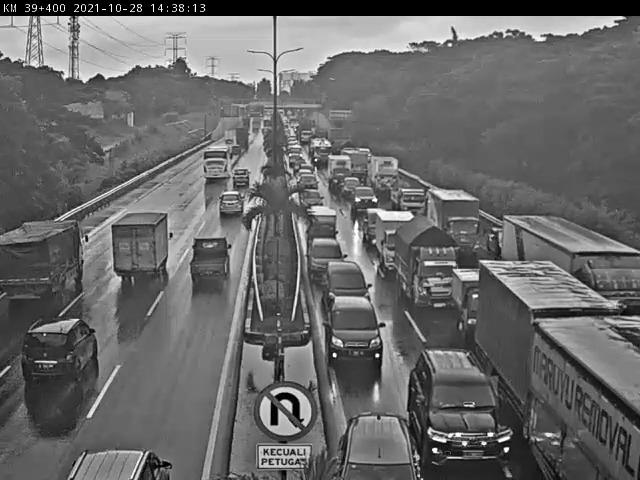big bus: (206, 147, 229, 177)
big truck: (480, 260, 634, 418), (529, 321, 640, 480), (501, 216, 640, 318), (0, 209, 88, 322), (111, 196, 169, 292), (394, 221, 456, 301), (428, 191, 480, 252), (376, 212, 418, 271)
car: (419, 344, 506, 467), (11, 311, 100, 399), (339, 403, 418, 480), (332, 291, 396, 369), (64, 435, 168, 480), (180, 224, 237, 300), (322, 261, 386, 321), (301, 236, 357, 272), (219, 187, 249, 216), (232, 167, 255, 189)
